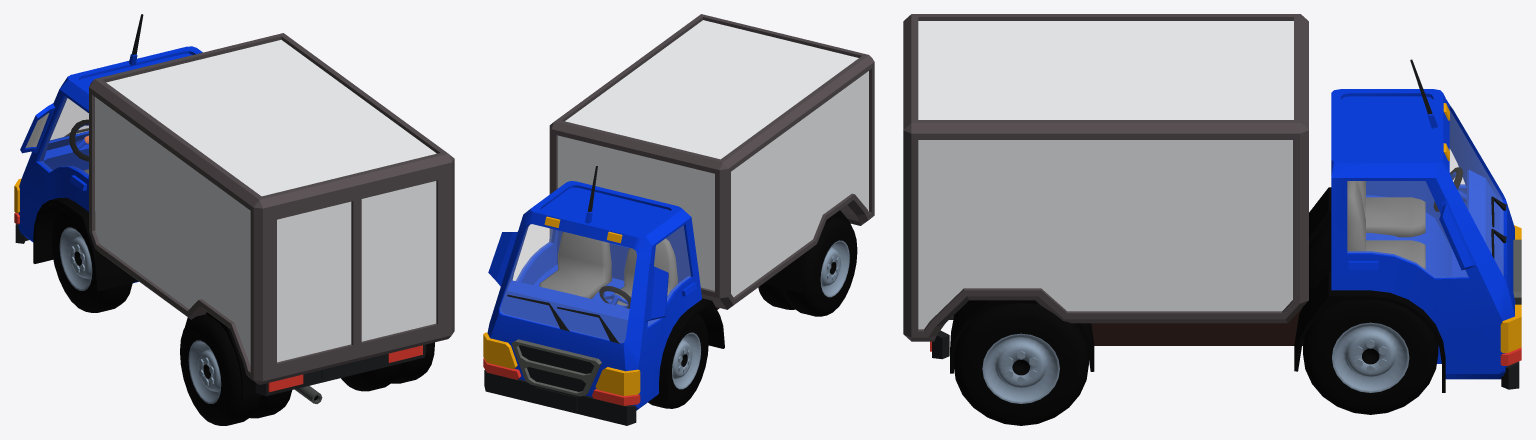
The model's file is truck.glb.
3 renders of one model, left to right at view 1: azimuth 30°, elevation 25°; view 2: azimuth 150°, elevation 25°; view 3: azimuth 270°, elevation 25°, orthographic. The views are drawn at different scales.
Parts seen in each view (by area): view 1: Transport1; view 2: Transport1; view 3: Transport1.
Part boxes in pixels (bbox=[...]): Transport1: bbox=[14, 14, 454, 425]; Transport1: bbox=[483, 14, 874, 425]; Transport1: bbox=[903, 14, 1521, 425].
Bounding box in the file's own units: 1.4 × 1.72 × 3.1.
Materials: 2 (2 with a texture image).
